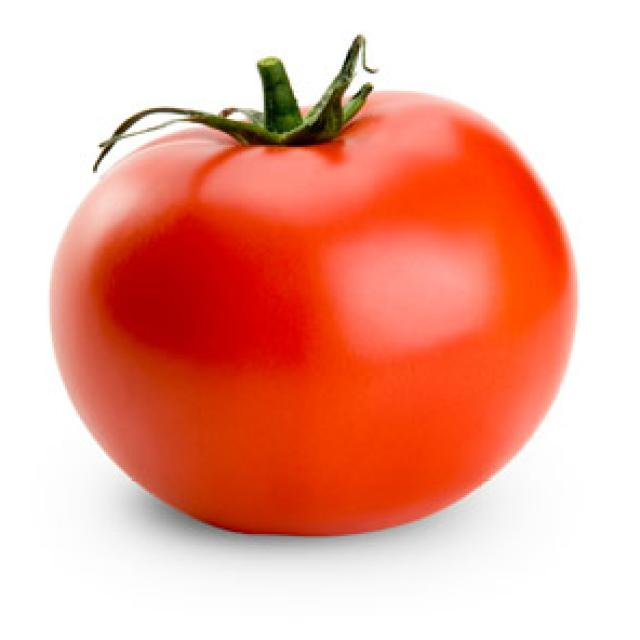tomato: (58, 20, 588, 534)
